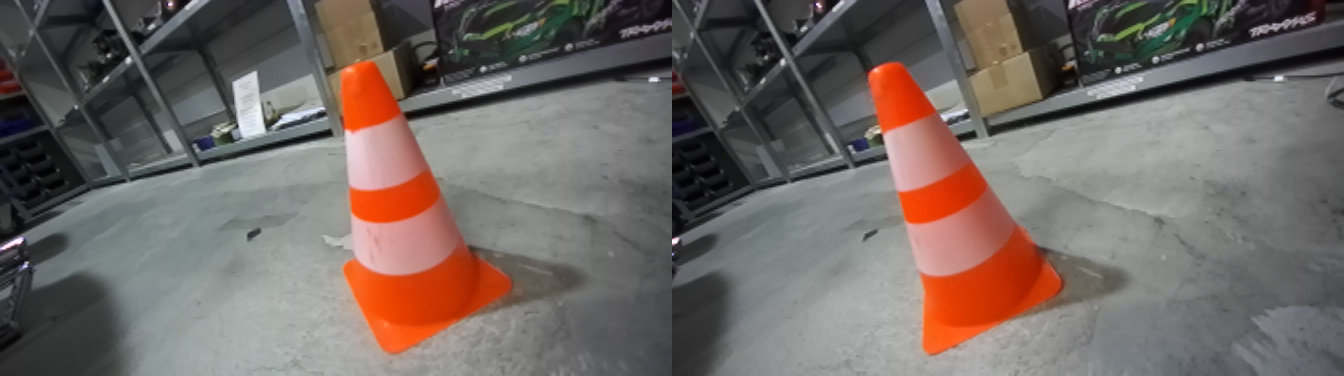cone: (872, 66, 1075, 367), (321, 70, 518, 358)
